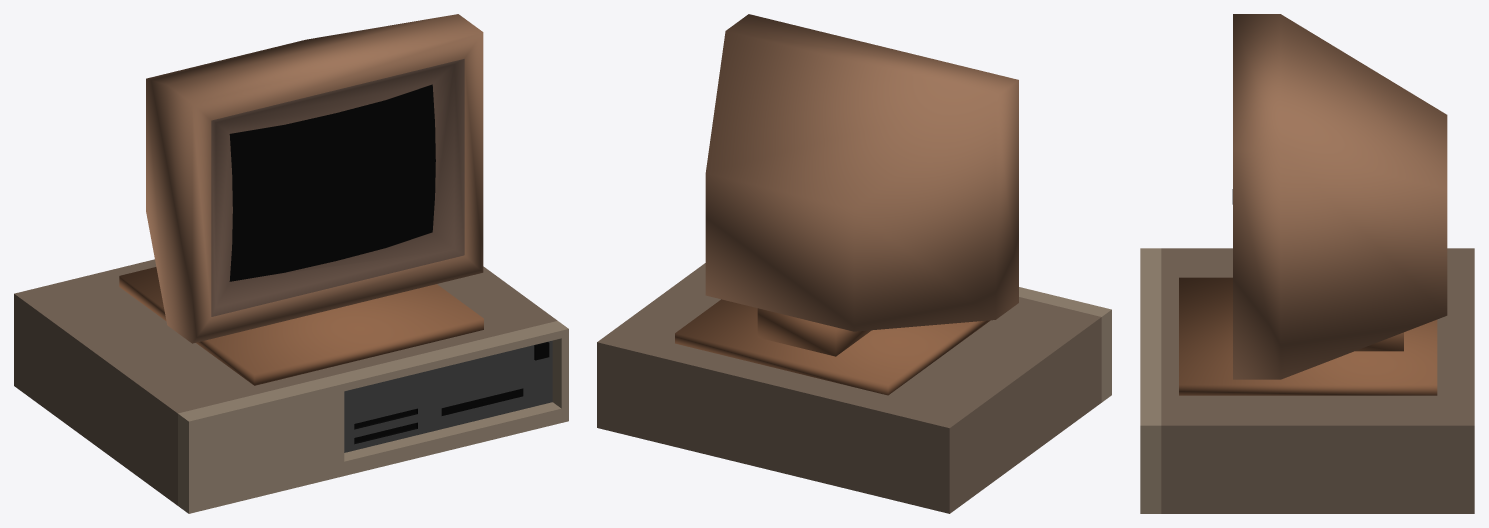
Rendered from komputer.glb.
3 views of the same model, side by side, from view 1: azimuth 30°, elevation 25°; view 2: azimuth 150°, elevation 25°; view 3: azimuth 270°, elevation 25° (orthographic). The views are drawn at different scales.
Visible parts, largest first — view 1: Cube.003; view 2: Cube.003; view 3: Cube.003.
Boxes of the visible parts, <box> form: Cube.003: <box>14,14,568,513</box>; Cube.003: <box>597,14,1111,513</box>; Cube.003: <box>1140,14,1474,513</box>.
Size of the model in its own units: 3.31 by 3.02 by 2.64.
